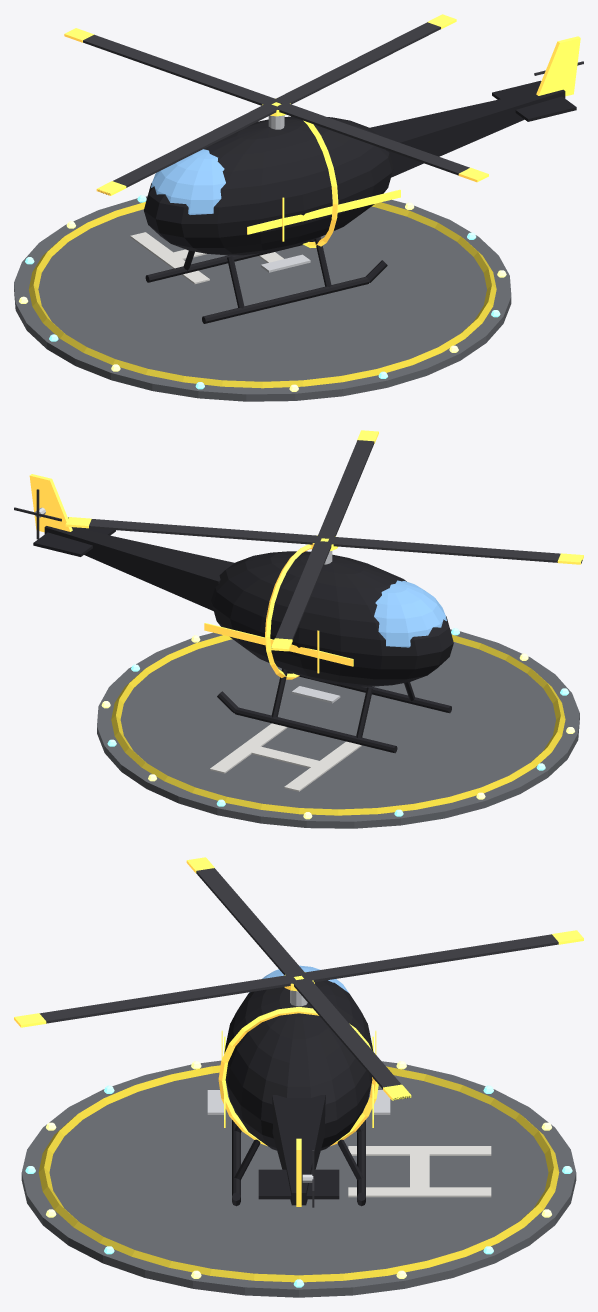
The model's file is lux_helicopter.glb.
The picture shows the model from 3 angles, top to bottom: view 1: azimuth 30°, elevation 25°; view 2: azimuth 150°, elevation 25°; view 3: azimuth 270°, elevation 25°; orthographic projection. The views are drawn at different scales.
Visible parts, largest first — view 1: lux_helicopter; view 2: lux_helicopter; view 3: lux_helicopter.
Part boxes in pixels (bbox=[...]): lux_helicopter: bbox=[14, 14, 583, 401]; lux_helicopter: bbox=[14, 430, 583, 828]; lux_helicopter: bbox=[14, 857, 583, 1297].
Size of the model in its own units: 7.8 by 2.6 by 6.37.
